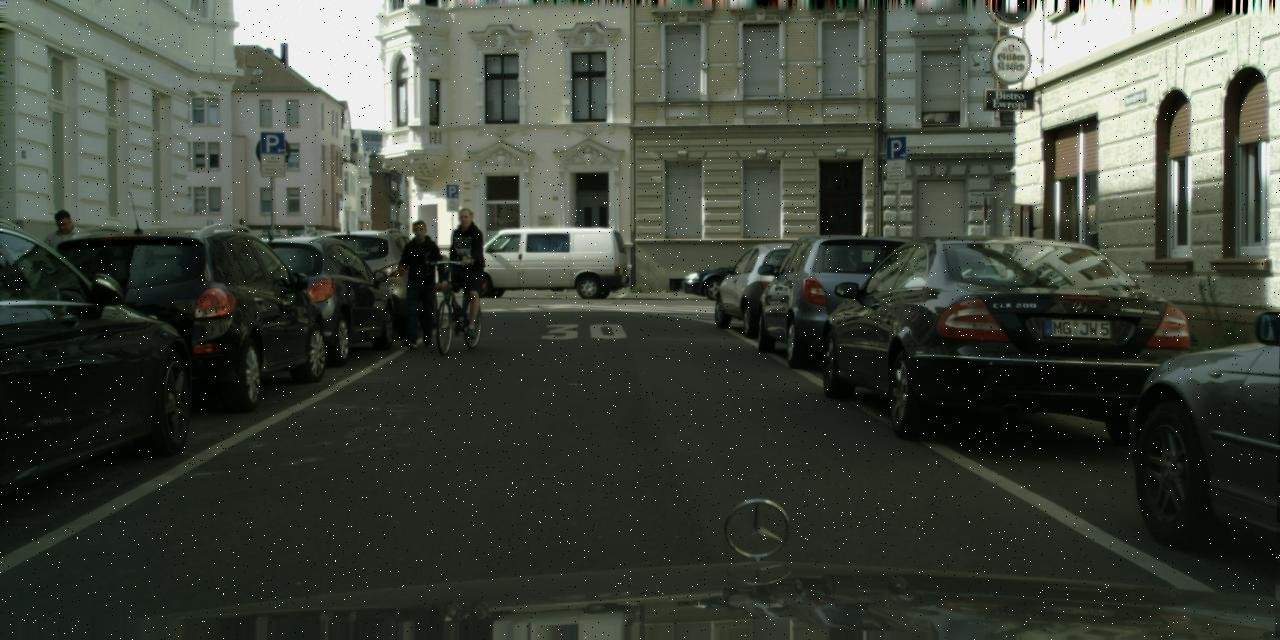ped: (38, 210, 94, 348), (394, 220, 446, 346), (438, 206, 488, 328)
